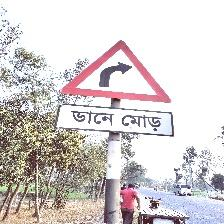Right-turn: (58, 41, 174, 137)
